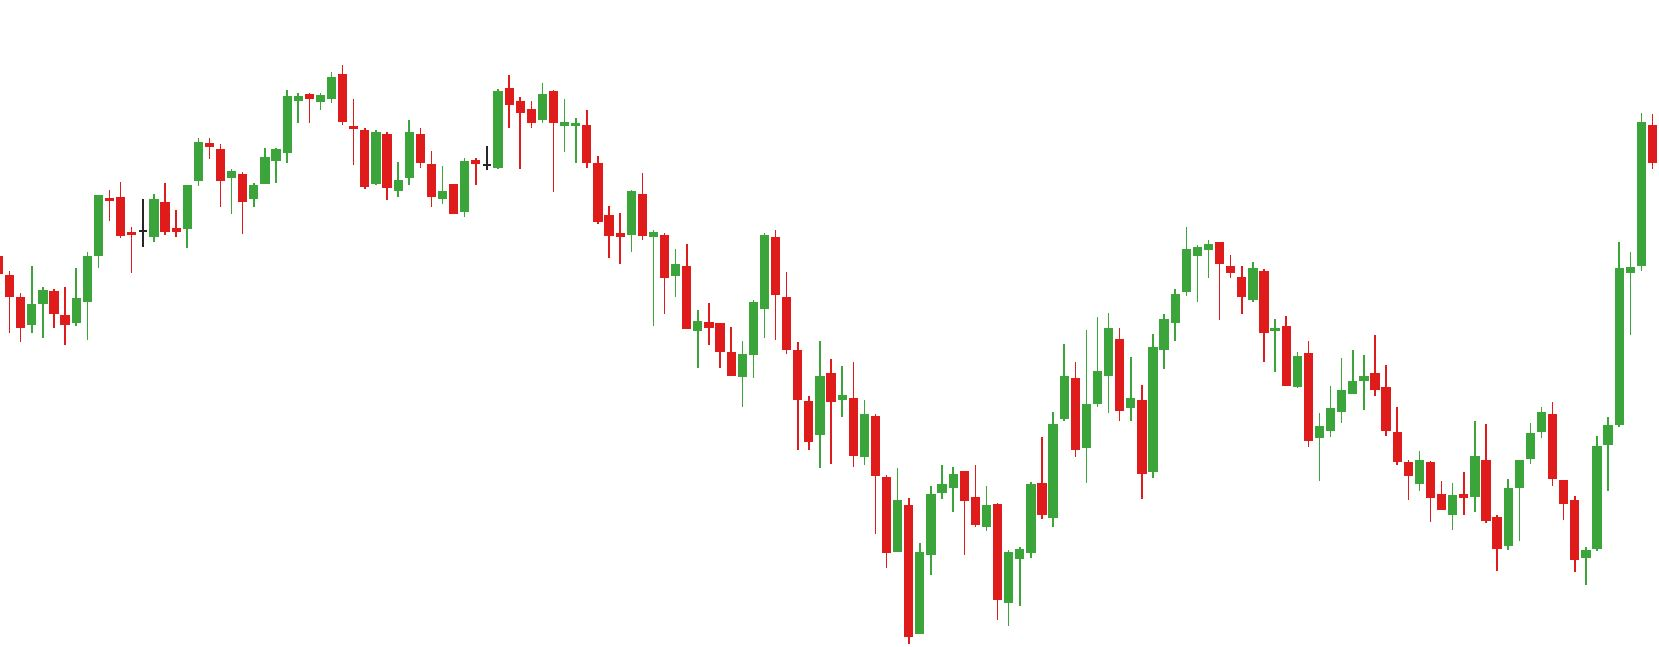buy: (1495, 464, 1591, 589), (1080, 355, 1161, 500)
sell: (682, 217, 780, 345)
